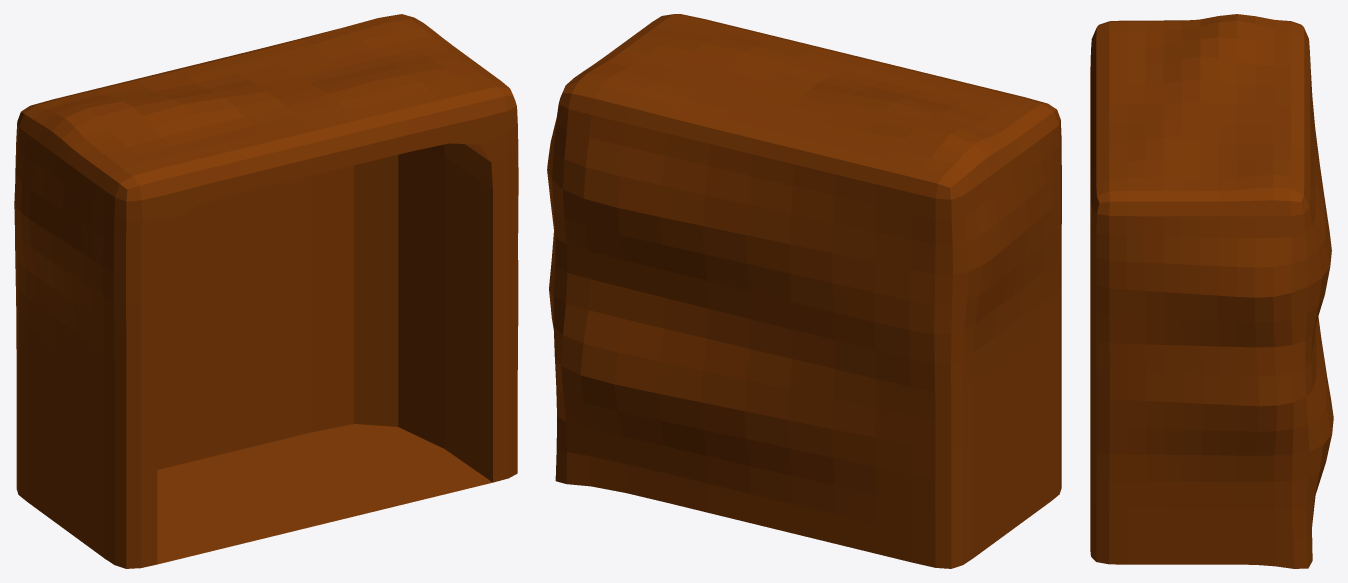
Rendered from level_exit_cover.glb.
3 renders of one model, left to right at view 1: azimuth 30°, elevation 25°; view 2: azimuth 150°, elevation 25°; view 3: azimuth 270°, elevation 25°, orthographic. The views are drawn at different scales.
Visible parts, largest first — view 1: LevelExitCover; view 2: LevelExitCover; view 3: LevelExitCover.
Part boxes in pixels (box(x1,y1,x2,y2)): LevelExitCover: box(14, 14, 518, 568); LevelExitCover: box(547, 14, 1061, 568); LevelExitCover: box(1090, 14, 1333, 568).
Bounding box in the file's own units: 2.58 × 2.3 × 1.33.
